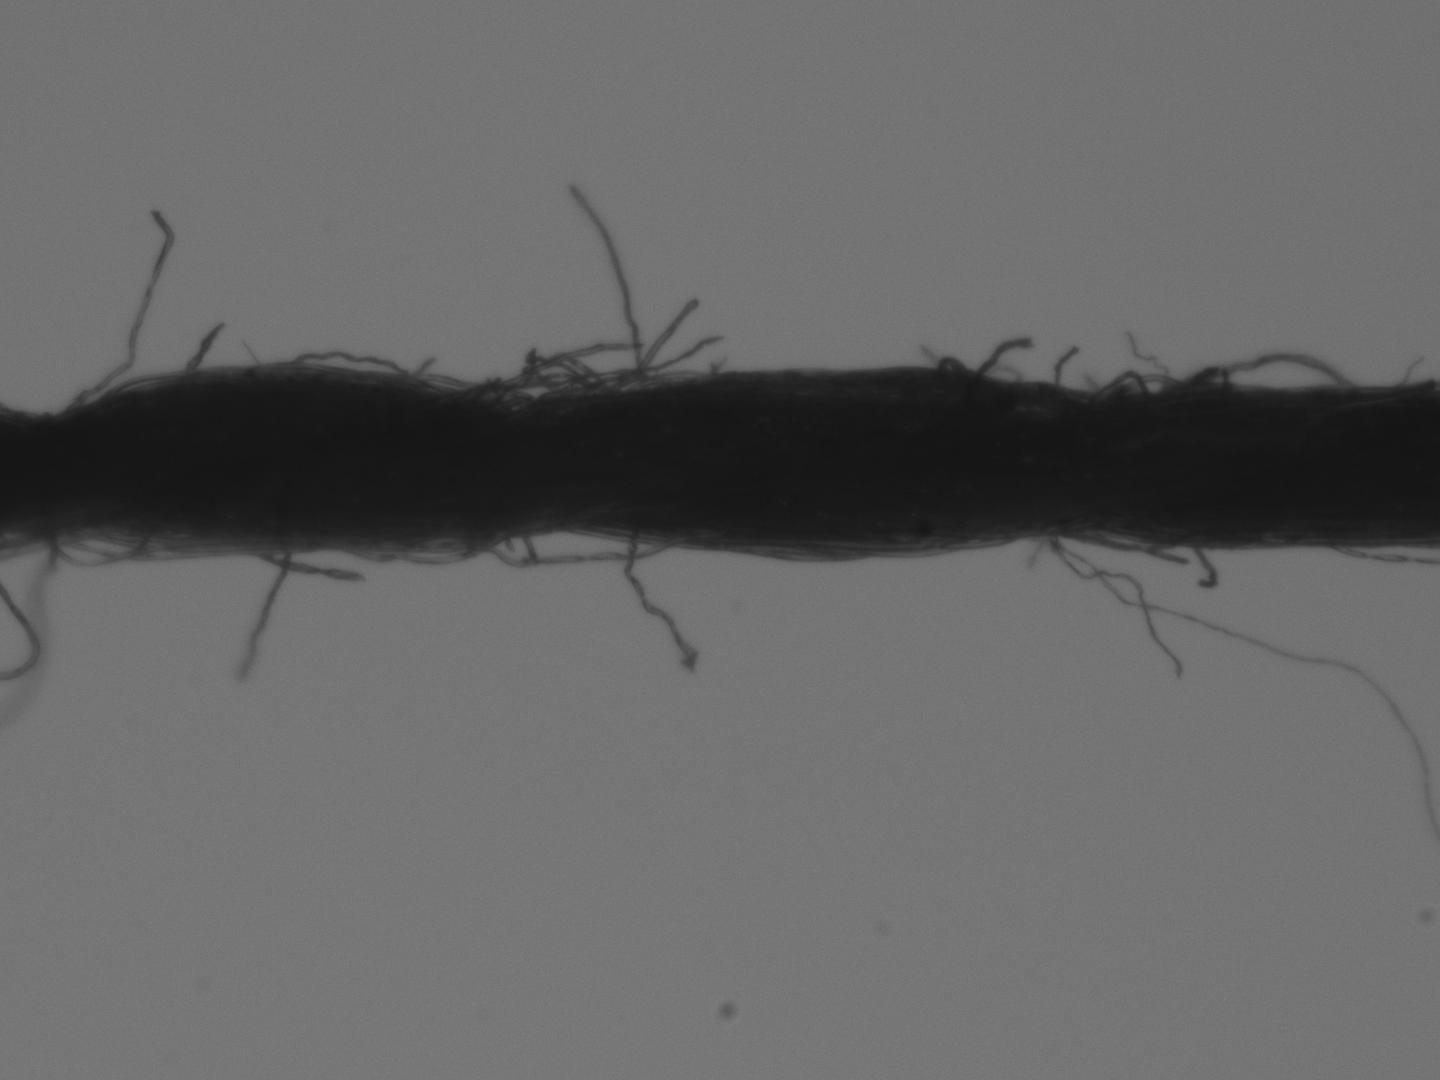loop_fiber: (468, 346, 650, 413), (484, 525, 668, 564), (492, 353, 617, 408), (1217, 353, 1357, 388), (48, 529, 146, 567), (273, 349, 404, 376), (1086, 368, 1151, 403), (388, 539, 483, 563), (1118, 373, 1179, 399), (485, 532, 531, 565), (338, 542, 407, 564), (1185, 364, 1233, 389)
protruding_fiber: (60, 205, 178, 415), (1049, 529, 1186, 674), (570, 186, 654, 399), (624, 534, 700, 672), (236, 541, 298, 684), (626, 294, 704, 397), (971, 334, 1035, 379), (180, 323, 223, 381), (1188, 546, 1220, 596), (1053, 340, 1081, 386)
